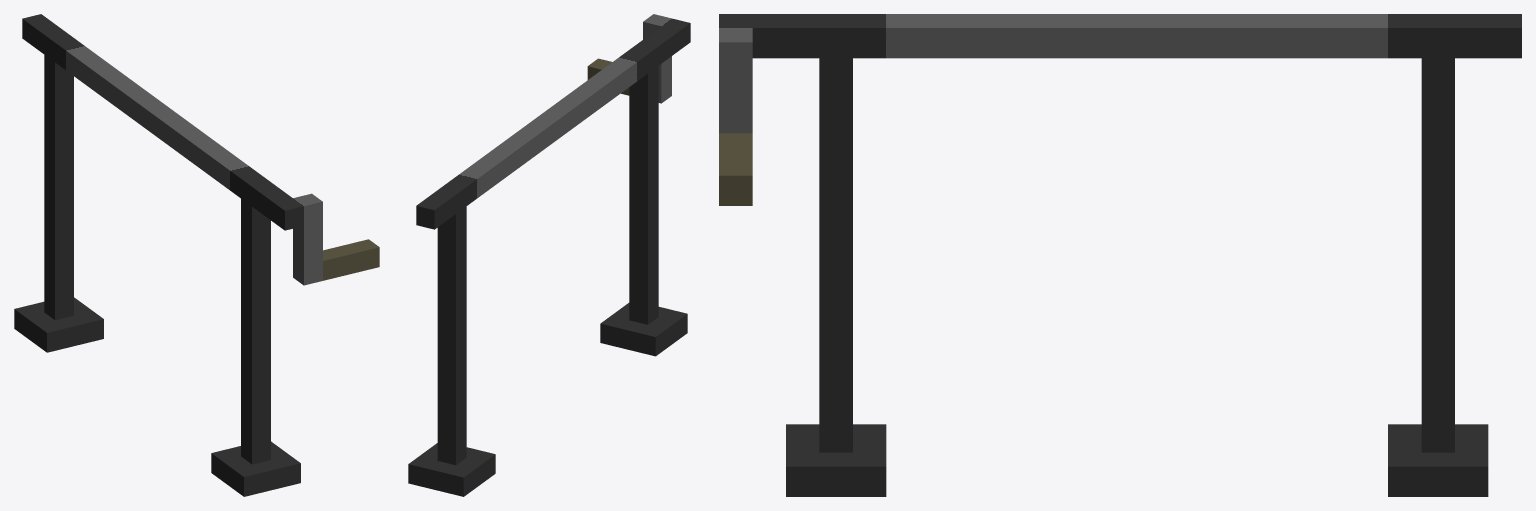
Rendered from cookingpothandle.fbx.
The picture shows the model from 3 angles, left to right: view 1: azimuth 30°, elevation 25°; view 2: azimuth 150°, elevation 25°; view 3: azimuth 270°, elevation 25°; orthographic projection. The views are drawn at different scales.
Visible parts, largest first — view 1: cookingpothandle; view 2: cookingpothandle; view 3: cookingpothandle.
Boxes of the visible parts, x1=… form: cookingpothandle: x1=14, y1=14, x2=379, y2=496; cookingpothandle: x1=408, y1=14, x2=690, y2=496; cookingpothandle: x1=719, y1=14, x2=1521, y2=496.
Size of the model in its own units: 6 by 15 by 24.
1 material, 1 textured.
